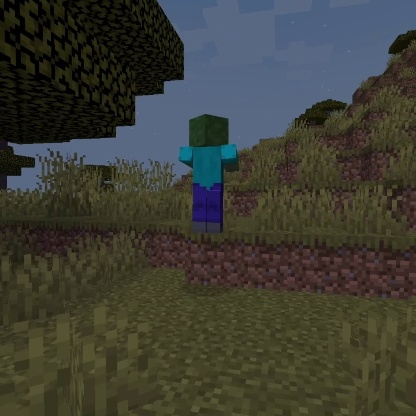zombie: (176, 112, 242, 239)
